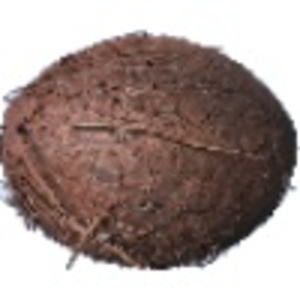coco: (1, 31, 298, 272)
